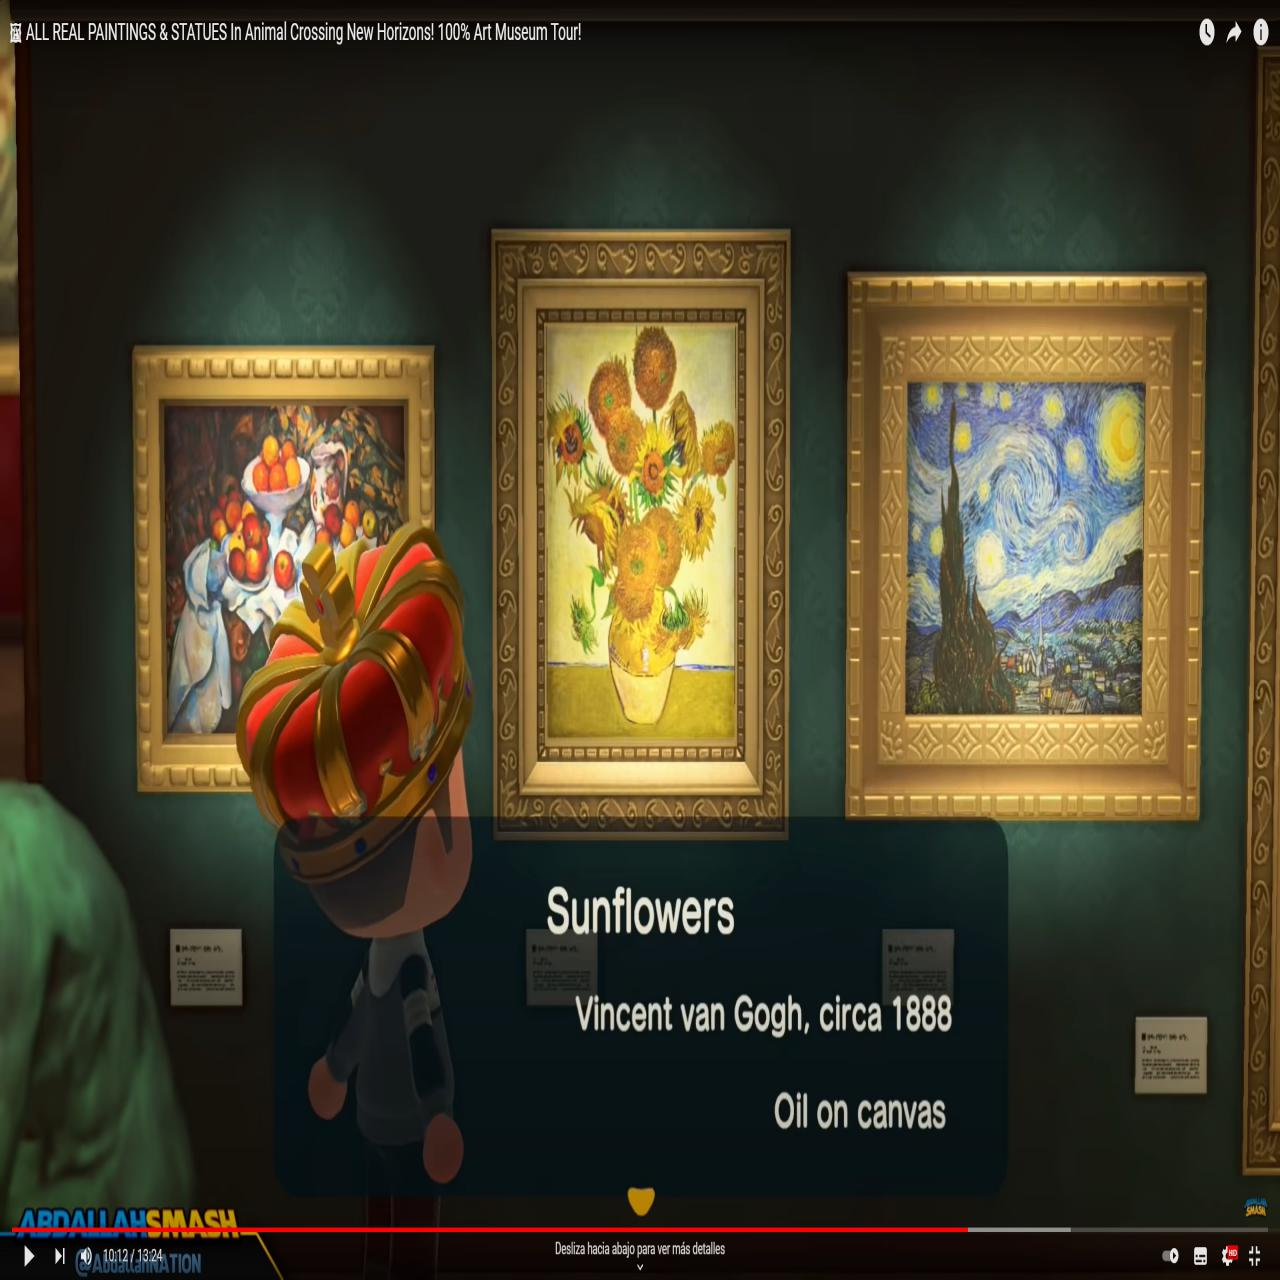AppleOrange: (164, 411, 406, 734)
StarryNight: (908, 386, 1144, 717)
Sunflower: (545, 324, 737, 750)
